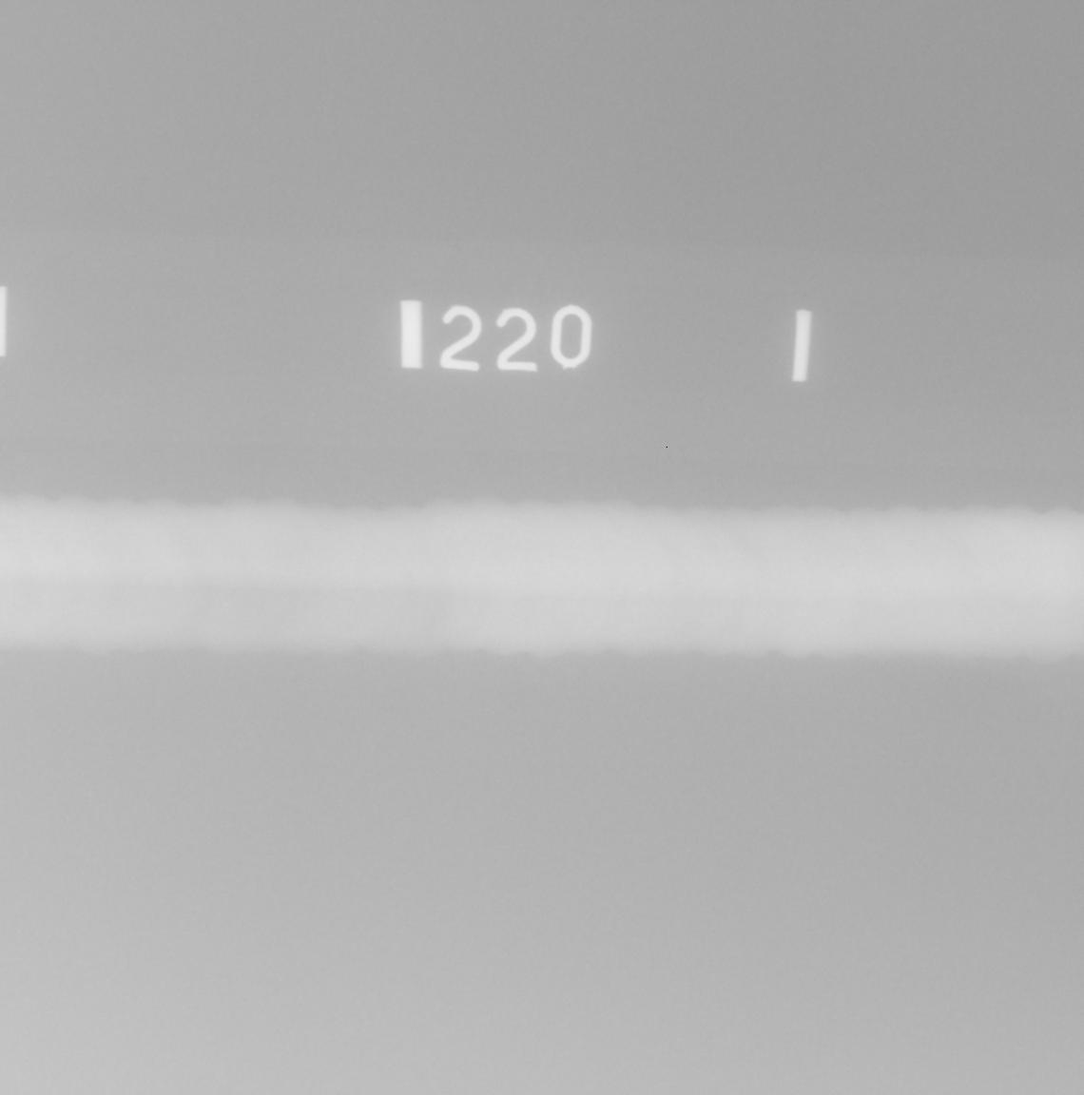Pore/Porosity: (230, 591, 236, 598)
